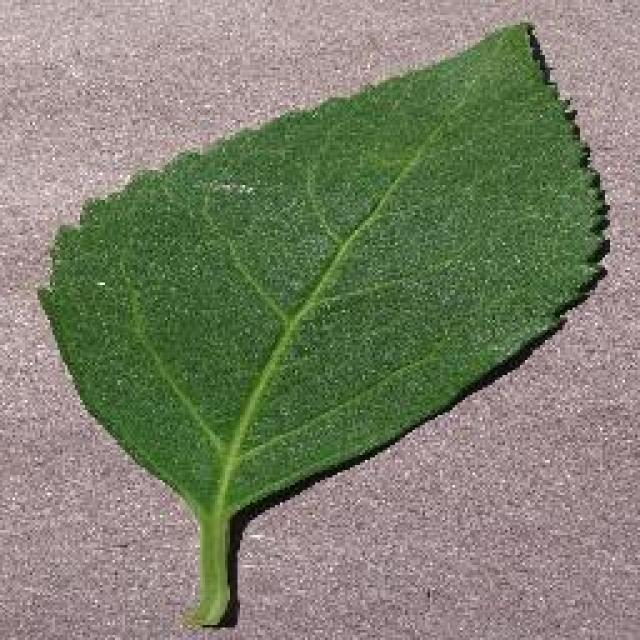Cherry___healthy: (22, 12, 620, 638)
